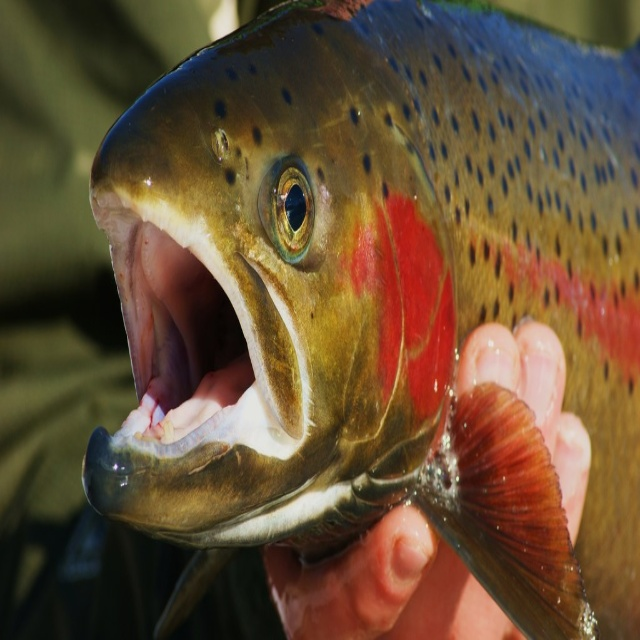Fish: (80, 0, 640, 640)
